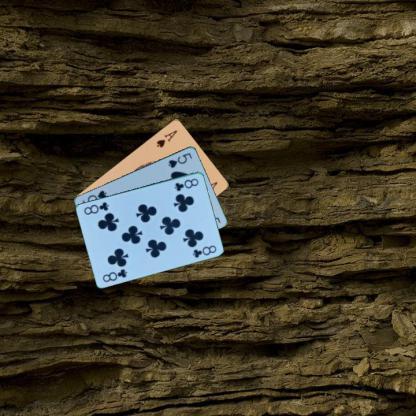5s: (166, 150, 193, 169)
8c: (100, 266, 128, 283), (172, 176, 200, 192)
As: (154, 127, 178, 149)
